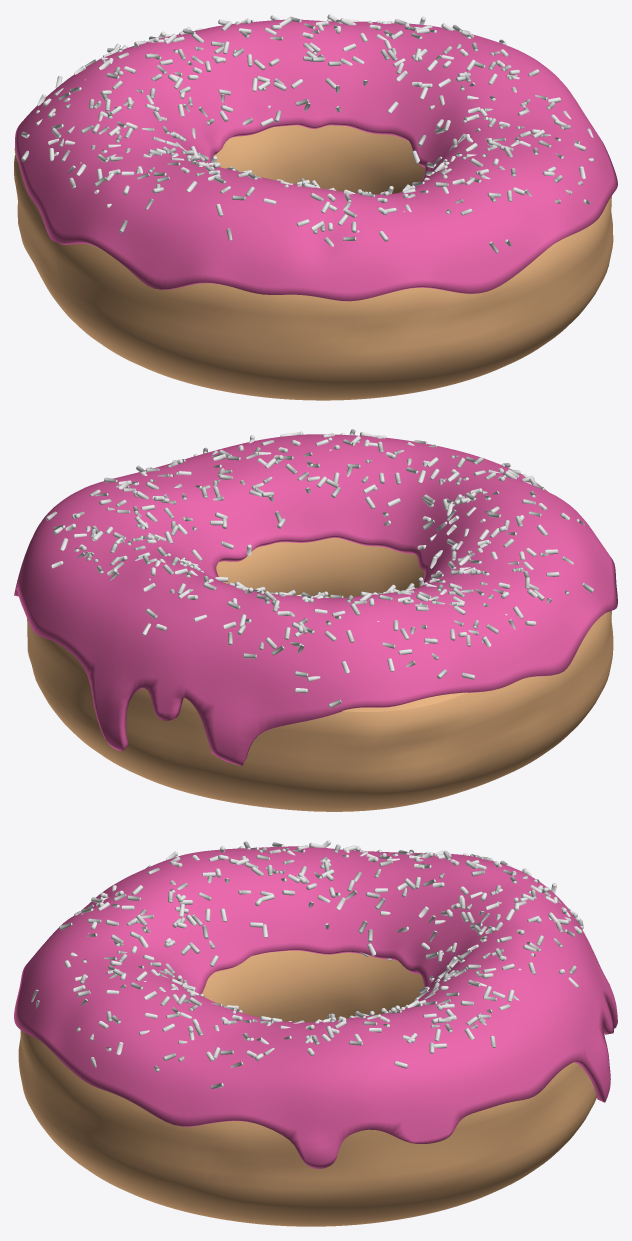
The model's file is Donut2.fbx.
3 renders of one model, top to bottom at view 1: azimuth 30°, elevation 25°; view 2: azimuth 150°, elevation 25°; view 3: azimuth 270°, elevation 25°, orthographic.
Parts seen in each view (by area): view 1: Icing, Donut; view 2: Icing, Donut; view 3: Icing, Donut.
Boxes of the visible parts, box(x1,y1,x2,y2) form: Icing: box(15, 19, 617, 301); Donut: box(14, 125, 613, 400); Icing: box(14, 434, 617, 766); Donut: box(27, 538, 613, 811); Icing: box(14, 846, 617, 1169); Donut: box(18, 950, 596, 1226).
Size of the model in its own units: 15.19 by 5.88 by 15.12.
